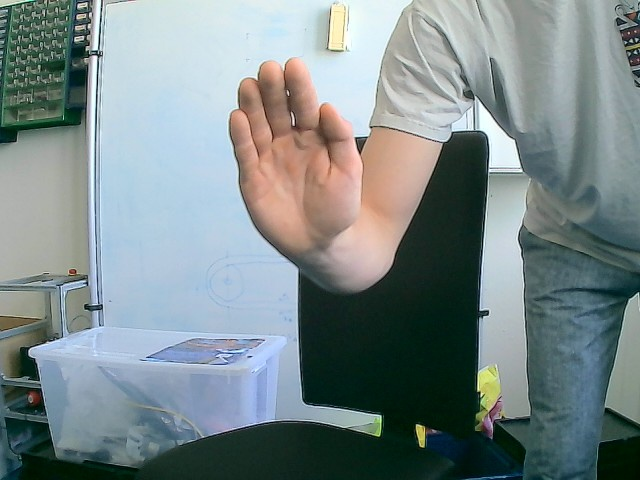stop: (228, 56, 365, 259)
